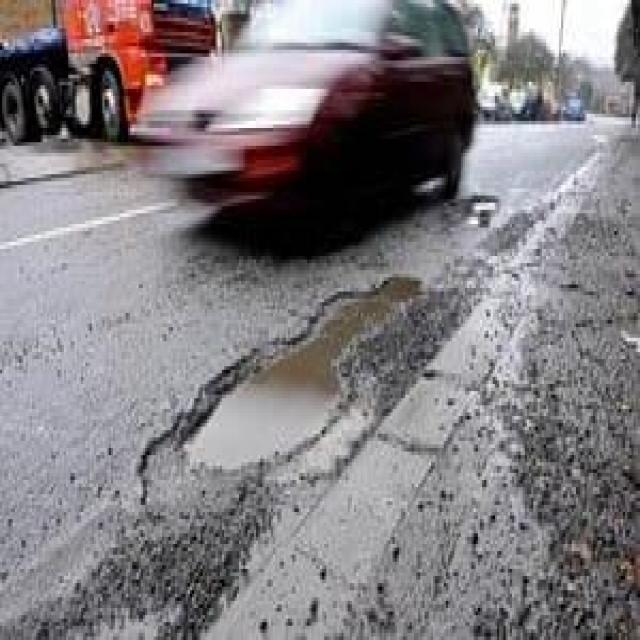lubang: (123, 263, 440, 523), (4, 535, 267, 640), (440, 188, 512, 228)
